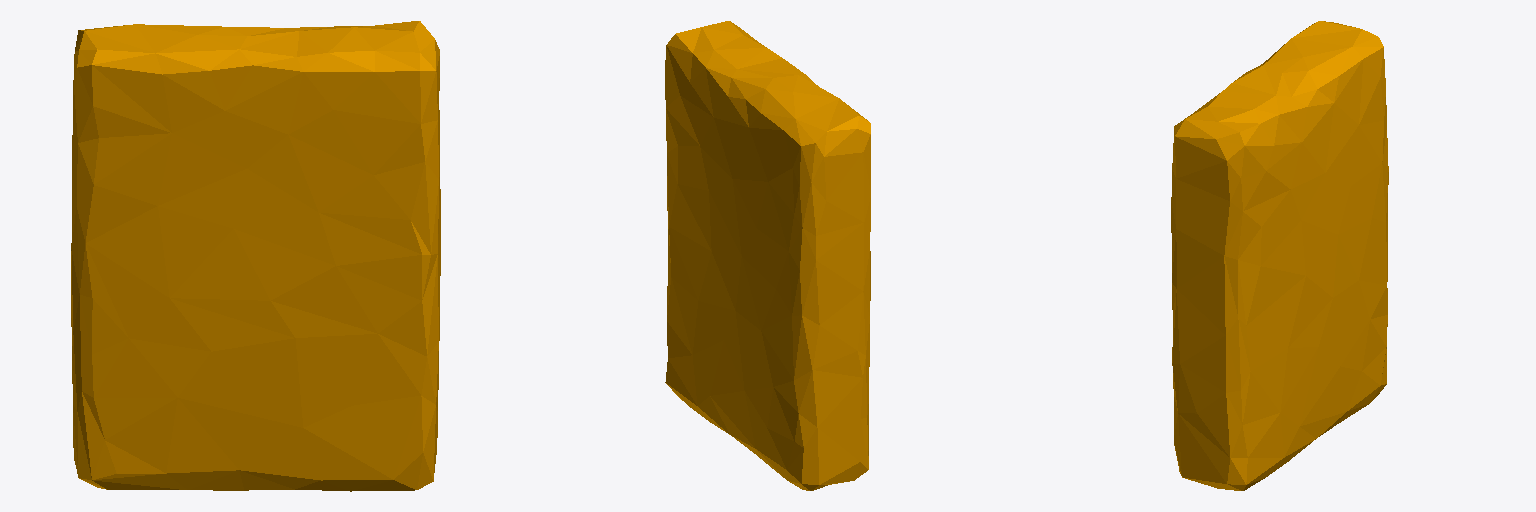
URDF robot description (cinnamon_toast_crunch):
<?xml version="1.0"?>
<robot name="cinnamon_toast_crunch">
  <link name="base_link">
    <contact>
      <lateral_friction value="1.0"/>
      <rolling_friction value="0.0"/>
      <contact_cfm value="0.0"/>
      <contact_erp value="1.0"/>
    </contact>
    <inertial>
      <mass value="2.02061568128"/>
      <inertia ixx="1" ixy="0" ixz="0" iyy="1" iyz="0" izz="1"/>
    </inertial>
    <visual>
      <geometry>
        <mesh filename="cinnamon_toast_crunch_visual.obj"/>
      </geometry>
    </visual>
    <collision>
      <geometry>
        <mesh filename="cinnamon_toast_crunch_collision.obj"/>
      </geometry>
    </collision>
  </link>
</robot>

--- Facts derived from the render (not from the file) ---
3 views of the same robot in one strip: view 1: azimuth 30°, elevation 25°; view 2: azimuth 150°, elevation 25°; view 3: azimuth 270°, elevation 25° (orthographic).
Model cinnamon_toast_crunch with 1 links and 0 joints (none), rooted at base_link, posed every joint at zero.
Visible links, largest first — view 1: base_link; view 2: base_link; view 3: base_link.
Boxes of the visible links, x1,y1,x2,y2 form: base_link: (71,21,440,491); base_link: (665,21,870,490); base_link: (1171,21,1388,490).
Bounding box of the posed robot: 0.07 × 0.0526 × 0.0981 m (x, y, z).
1 mesh visuals loaded from 1 distinct referenced files (1 OBJ).